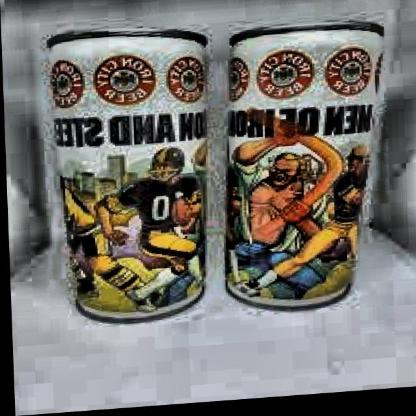Can: (210, 18, 392, 324), (42, 20, 218, 334)
